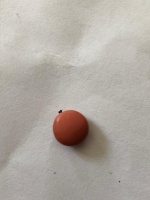Dolorex: (51, 108, 90, 148)
